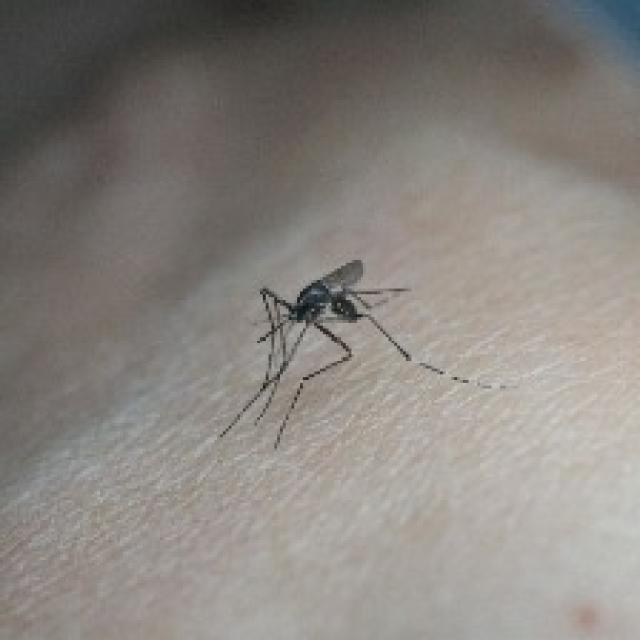aedes: (214, 254, 506, 452)
